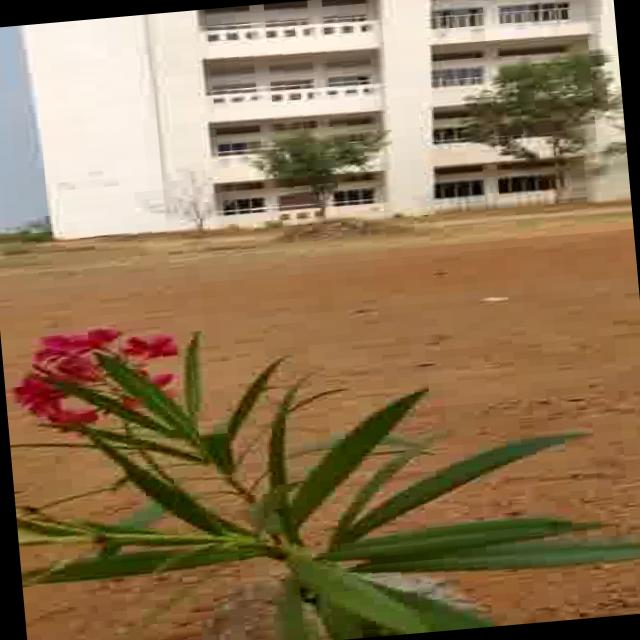Oleander: (0, 277, 611, 640)
